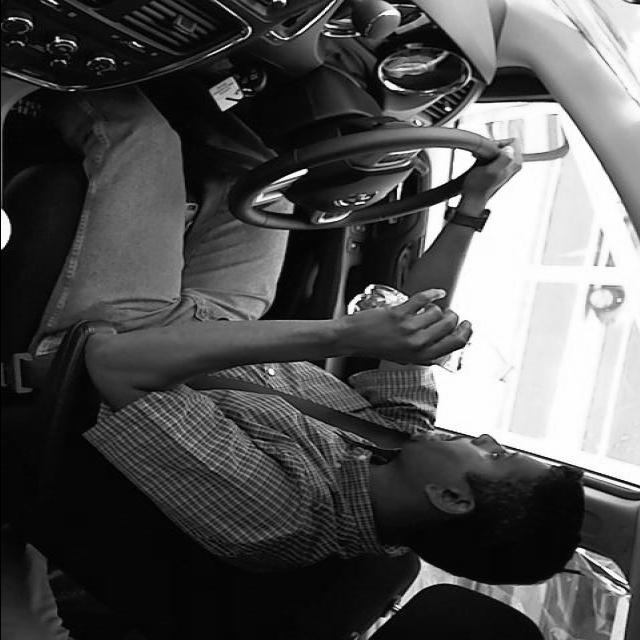drinking: (347, 282, 522, 386)
